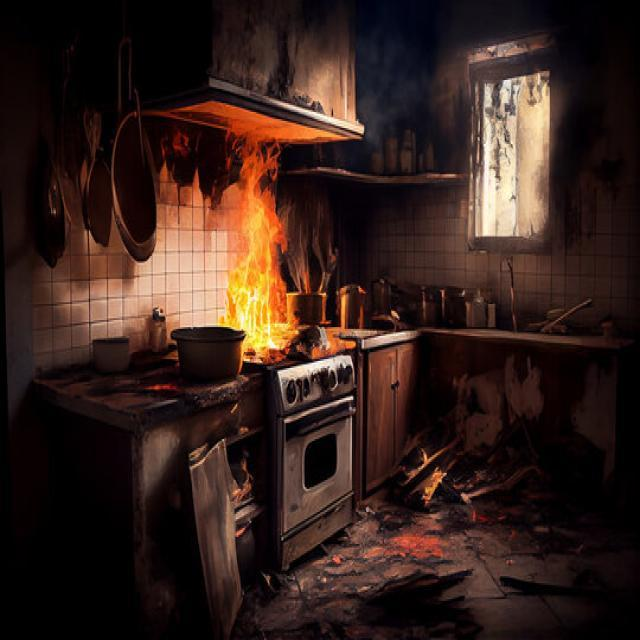Fire: (226, 130, 306, 363)
